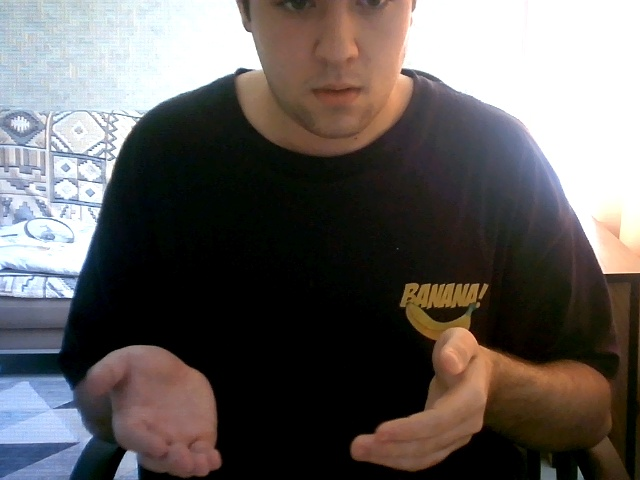hello: (60, 274, 553, 479)
